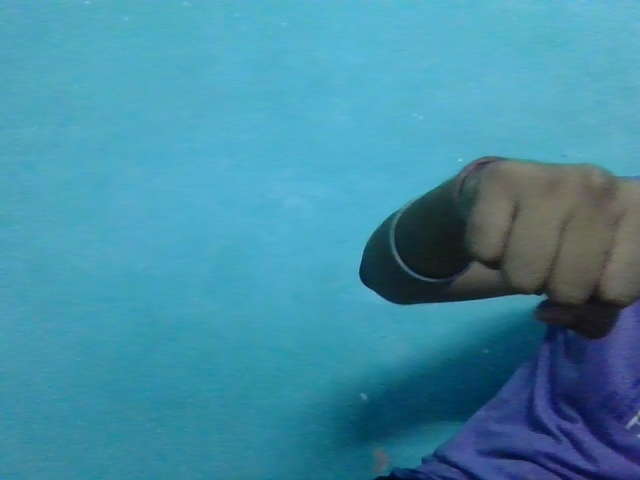yes: (457, 162, 640, 300)
